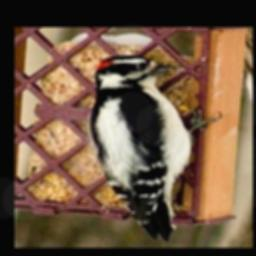Woodpecker: (90, 54, 221, 240)
